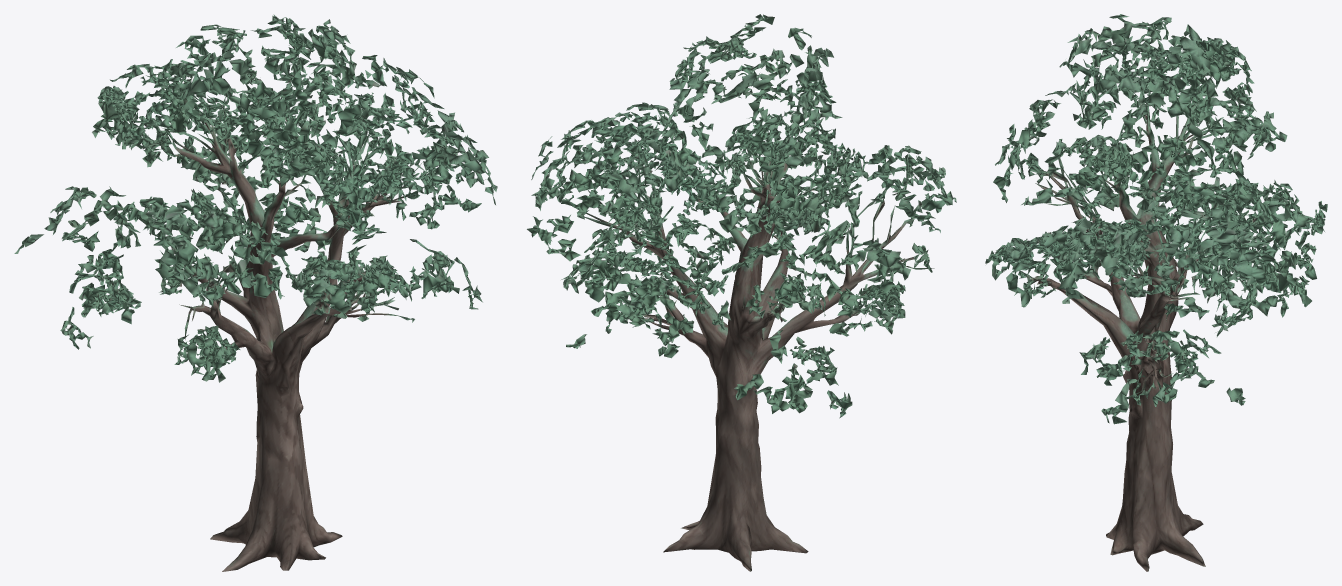
Rendered from vegetation_tree_broadleaf_a_model.glb.
3 renders of one model, left to right at view 1: azimuth 30°, elevation 25°; view 2: azimuth 150°, elevation 25°; view 3: azimuth 270°, elevation 25°, orthographic. The views are drawn at different scales.
Parts seen in each view (by area): view 1: Mesh_0; view 2: Mesh_0; view 3: Mesh_0.
Part boxes in pixels (box(x1,y1,x2,y2)): Mesh_0: box(14, 14, 497, 571); Mesh_0: box(527, 14, 956, 571); Mesh_0: box(985, 14, 1327, 571).
Bounding box in the file's own units: 4.77 × 6 × 3.67.
Materials: 1 (1 with a texture image).
